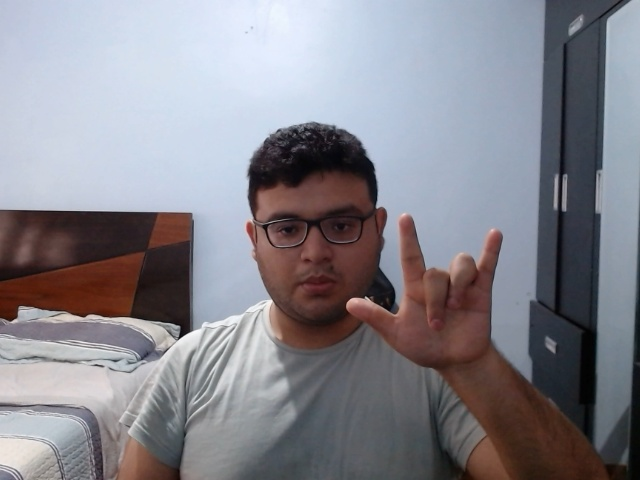I love you: (345, 213, 506, 371)
